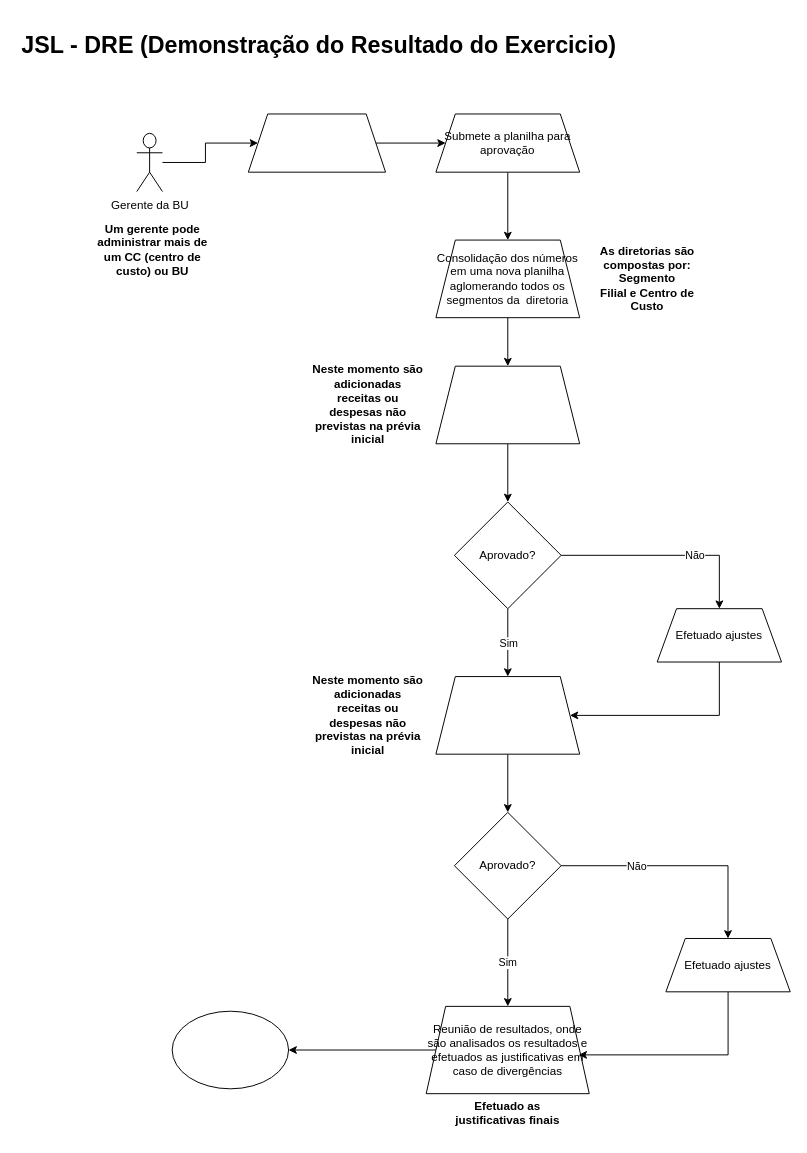
Image size: 807x1153. Some labels were removed from this diagram. The centre of each missing label's shape, as x and y in pixels:
"1ª prévia do mês, onde são apresentados os números consolidados" belongs at (x=507, y=404).
"2ª prévia do mês" belongs at (x=507, y=715).
"Fim do processo" belongs at (x=230, y=1049).
"Insere a previsão de receita e dos gastos na planilha Excel" belongs at (x=316, y=142).
